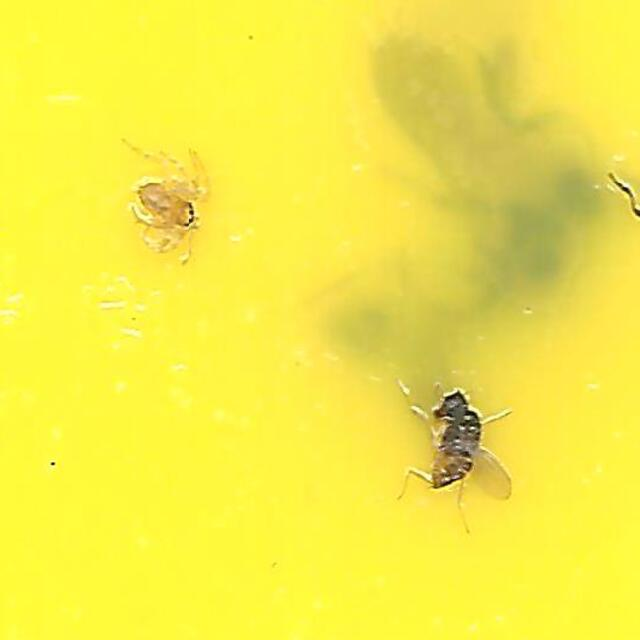Araneae: (120, 138, 212, 271)
Brachycera: (422, 385, 520, 502)
